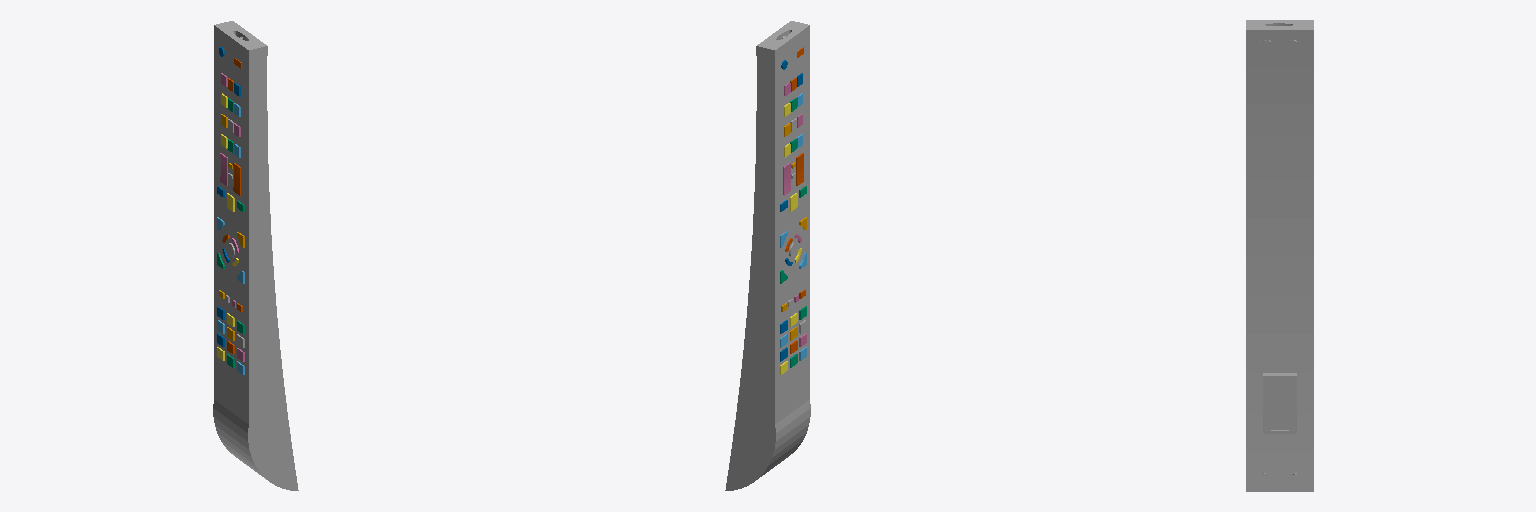
--- Render facts (derived) ---
3 views of the same robot in one strip: view 1: azimuth 30°, elevation 25°; view 2: azimuth 150°, elevation 25°; view 3: azimuth 270°, elevation 25° (orthographic).
Robot: partnet_2053bdd83749adcc1e5c09d9fe5c0c76 — 48 links, 47 joints (46 prismatic, 1 fixed); root link base; default pose: all joints at 0.
Visible links, largest first — view 1: link_46; view 2: link_46; view 3: link_46.
Boxes of the visible links, bbox=[...] form: link_46: bbox=[213, 21, 298, 490]; link_46: bbox=[725, 21, 810, 490]; link_46: bbox=[1246, 20, 1313, 491].
Bounding box of the posed robot: 0.2298 × 0.2682 × 1.92 m (x, y, z).
85 mesh visuals loaded from 85 distinct referenced files (85 OBJ).

The robot description file, URDF, robot "partnet_2053bdd83749adcc1e5c09d9fe5c0c76":
<?xml version="1.0" ?>
<robot name="partnet_2053bdd83749adcc1e5c09d9fe5c0c76">
	<link name="base"/>
	<link name="link_0">
		<visual name="button-5">
			<origin xyz="-0.0053109302520972235 -0.7905613284499184 -0.07628100000000015"/>
			<geometry>
				<mesh filename="textured_objs/original-46.obj"/>
			</geometry>
		</visual>
		<collision>
			<origin xyz="-0.0053109302520972235 -0.7905613284499184 -0.07628100000000015"/>
			<geometry>
				<mesh filename="textured_objs/original-46.obj"/>
			</geometry>
		</collision>
	</link>
	<joint name="joint_0" type="prismatic">
		<origin xyz="0.0053109302520972235 0.7905613284499184 0.07628100000000015"/>
		<axis xyz="0 0 -1"/>
		<child link="link_0"/>
		<parent link="link_46"/>
		<limit lower="0" upper="0.004"/>
	</joint>
	<link name="link_1">
		<visual name="button-6">
			<origin xyz="-0.0053109302520972235 -0.7905613284499184 -0.07628100000000015"/>
			<geometry>
				<mesh filename="textured_objs/original-51.obj"/>
			</geometry>
		</visual>
		<collision>
			<origin xyz="-0.0053109302520972235 -0.7905613284499184 -0.07628100000000015"/>
			<geometry>
				<mesh filename="textured_objs/original-51.obj"/>
			</geometry>
		</collision>
	</link>
	<joint name="joint_1" type="prismatic">
		<origin xyz="0.0053109302520972235 0.7905613284499184 0.07628100000000015"/>
		<axis xyz="0 0 -1"/>
		<child link="link_1"/>
		<parent link="link_46"/>
		<limit lower="0" upper="0.004"/>
	</joint>
	<link name="link_2">
		<visual name="button-7">
			<origin xyz="-0.0053109302520972235 -0.7905613284499184 -0.07628100000000015"/>
			<geometry>
				<mesh filename="textured_objs/original-54.obj"/>
			</geometry>
		</visual>
		<collision>
			<origin xyz="-0.0053109302520972235 -0.7905613284499184 -0.07628100000000015"/>
			<geometry>
				<mesh filename="textured_objs/original-54.obj"/>
			</geometry>
		</collision>
	</link>
	<joint name="joint_2" type="prismatic">
		<origin xyz="0.0053109302520972235 0.7905613284499184 0.07628100000000015"/>
		<axis xyz="0 0 -1"/>
		<child link="link_2"/>
		<parent link="link_46"/>
		<limit lower="0" upper="0.004"/>
	</joint>
	<link name="link_3">
		<visual name="button-8">
			<origin xyz="-0.0053109302520972235 -0.7905613284499184 -0.07628100000000015"/>
			<geometry>
				<mesh filename="textured_objs/original-62.obj"/>
			</geometry>
		</visual>
		<collision>
			<origin xyz="-0.0053109302520972235 -0.7905613284499184 -0.07628100000000015"/>
			<geometry>
				<mesh filename="textured_objs/original-62.obj"/>
			</geometry>
		</collision>
	</link>
	<joint name="joint_3" type="prismatic">
		<origin xyz="0.0053109302520972235 0.7905613284499184 0.07628100000000015"/>
		<axis xyz="0 0 -1"/>
		<child link="link_3"/>
		<parent link="link_46"/>
		<limit lower="0" upper="0.004"/>
	</joint>
	<link name="link_4">
		<visual name="button-9">
			<origin xyz="-0.0053109302520972235 -0.7905613284499184 -0.07628100000000015"/>
			<geometry>
				<mesh filename="textured_objs/original-63.obj"/>
			</geometry>
		</visual>
		<collision>
			<origin xyz="-0.0053109302520972235 -0.7905613284499184 -0.07628100000000015"/>
			<geometry>
				<mesh filename="textured_objs/original-63.obj"/>
			</geometry>
		</collision>
	</link>
	<joint name="joint_4" type="prismatic">
		<origin xyz="0.0053109302520972235 0.7905613284499184 0.07628100000000015"/>
		<axis xyz="0 0 -1"/>
		<child link="link_4"/>
		<parent link="link_46"/>
		<limit lower="0" upper="0.004"/>
	</joint>
	<link name="link_5">
		<visual name="button-10">
			<origin xyz="-0.0053109302520972235 -0.7905613284499184 -0.07628100000000015"/>
			<geometry>
				<mesh filename="textured_objs/original-50.obj"/>
			</geometry>
		</visual>
		<collision>
			<origin xyz="-0.0053109302520972235 -0.7905613284499184 -0.07628100000000015"/>
			<geometry>
				<mesh filename="textured_objs/original-50.obj"/>
			</geometry>
		</collision>
	</link>
	<joint name="joint_5" type="prismatic">
		<origin xyz="0.0053109302520972235 0.7905613284499184 0.07628100000000015"/>
		<axis xyz="0 0 -1"/>
		<child link="link_5"/>
		<parent link="link_46"/>
		<limit lower="0" upper="0.004"/>
	</joint>
	<link name="link_6">
		<visual name="button-11">
			<origin xyz="-0.0053109302520972235 -0.7905613284499184 -0.07628100000000015"/>
			<geometry>
				<mesh filename="textured_objs/original-59.obj"/>
			</geometry>
		</visual>
		<collision>
			<origin xyz="-0.0053109302520972235 -0.7905613284499184 -0.07628100000000015"/>
			<geometry>
				<mesh filename="textured_objs/original-59.obj"/>
			</geometry>
		</collision>
	</link>
	<joint name="joint_6" type="prismatic">
		<origin xyz="0.0053109302520972235 0.7905613284499184 0.07628100000000015"/>
		<axis xyz="0 0 -1"/>
		<child link="link_6"/>
		<parent link="link_46"/>
		<limit lower="0" upper="0.004"/>
	</joint>
	<link name="link_7">
		<visual name="button-12">
			<origin xyz="-0.0053109302520972235 -0.7905613284499184 -0.07628100000000015"/>
			<geometry>
				<mesh filename="textured_objs/original-72.obj"/>
			</geometry>
		</visual>
		<collision>
			<origin xyz="-0.0053109302520972235 -0.7905613284499184 -0.07628100000000015"/>
			<geometry>
				<mesh filename="textured_objs/original-72.obj"/>
			</geometry>
		</collision>
	</link>
	<joint name="joint_7" type="prismatic">
		<origin xyz="0.0053109302520972235 0.7905613284499184 0.07628100000000015"/>
		<axis xyz="0 0 -1"/>
		<child link="link_7"/>
		<parent link="link_46"/>
		<limit lower="0" upper="0.004"/>
	</joint>
	<link name="link_8">
		<visual name="button-13">
			<origin xyz="-0.0053109302520972235 -0.7905613284499184 -0.07628100000000015"/>
			<geometry>
				<mesh filename="textured_objs/original-71.obj"/>
			</geometry>
		</visual>
		<collision>
			<origin xyz="-0.0053109302520972235 -0.7905613284499184 -0.07628100000000015"/>
			<geometry>
				<mesh filename="textured_objs/original-71.obj"/>
			</geometry>
		</collision>
	</link>
	<joint name="joint_8" type="prismatic">
		<origin xyz="0.0053109302520972235 0.7905613284499184 0.07628100000000015"/>
		<axis xyz="0 0 -1"/>
		<child link="link_8"/>
		<parent link="link_46"/>
		<limit lower="0" upper="0.004"/>
	</joint>
	<link name="link_9">
		<visual name="button-14">
			<origin xyz="-0.0053109302520972235 -0.7905613284499184 -0.07628100000000015"/>
			<geometry>
				<mesh filename="textured_objs/original-61.obj"/>
			</geometry>
		</visual>
		<collision>
			<origin xyz="-0.0053109302520972235 -0.7905613284499184 -0.07628100000000015"/>
			<geometry>
				<mesh filename="textured_objs/original-61.obj"/>
			</geometry>
		</collision>
	</link>
	<joint name="joint_9" type="prismatic">
		<origin xyz="0.0053109302520972235 0.7905613284499184 0.07628100000000015"/>
		<axis xyz="0 0 -1"/>
		<child link="link_9"/>
		<parent link="link_46"/>
		<limit lower="0" upper="0.004"/>
	</joint>
	<link name="link_10">
		<visual name="button-15">
			<origin xyz="-0.0053109302520972235 -0.7905613284499184 -0.07628100000000015"/>
			<geometry>
				<mesh filename="textured_objs/original-76.obj"/>
			</geometry>
		</visual>
		<collision>
			<origin xyz="-0.0053109302520972235 -0.7905613284499184 -0.07628100000000015"/>
			<geometry>
				<mesh filename="textured_objs/original-76.obj"/>
			</geometry>
		</collision>
	</link>
	<joint name="joint_10" type="prismatic">
		<origin xyz="0.0053109302520972235 0.7905613284499184 0.07628100000000015"/>
		<axis xyz="0 0 -1"/>
		<child link="link_10"/>
		<parent link="link_46"/>
		<limit lower="0" upper="0.004"/>
	</joint>
	<link name="link_11">
		<visual name="button-16">
			<origin xyz="-0.0053109302520972235 -0.7905613284499184 -0.07628100000000015"/>
			<geometry>
				<mesh filename="textured_objs/original-73.obj"/>
			</geometry>
		</visual>
		<collision>
			<origin xyz="-0.0053109302520972235 -0.7905613284499184 -0.07628100000000015"/>
			<geometry>
				<mesh filename="textured_objs/original-73.obj"/>
			</geometry>
		</collision>
	</link>
	<joint name="joint_11" type="prismatic">
		<origin xyz="0.0053109302520972235 0.7905613284499184 0.07628100000000015"/>
		<axis xyz="0 0 -1"/>
		<child link="link_11"/>
		<parent link="link_46"/>
		<limit lower="0" upper="0.004"/>
	</joint>
	<link name="link_12">
		<visual name="button-17">
			<origin xyz="-0.0053109302520972235 -0.7905613284499184 -0.07628100000000015"/>
			<geometry>
				<mesh filename="textured_objs/original-84.obj"/>
			</geometry>
		</visual>
		<collision>
			<origin xyz="-0.0053109302520972235 -0.7905613284499184 -0.07628100000000015"/>
			<geometry>
				<mesh filename="textured_objs/original-84.obj"/>
			</geometry>
		</collision>
	</link>
	<joint name="joint_12" type="prismatic">
		<origin xyz="0.0053109302520972235 0.7905613284499184 0.07628100000000015"/>
		<axis xyz="0 0 -1"/>
		<child link="link_12"/>
		<parent link="link_46"/>
		<limit lower="0" upper="0.004"/>
	</joint>
	<link name="link_13">
		<visual name="button-18">
			<origin xyz="-0.0053109302520972235 -0.7905613284499184 -0.07628100000000015"/>
			<geometry>
				<mesh filename="textured_objs/original-87.obj"/>
			</geometry>
		</visual>
		<collision>
			<origin xyz="-0.0053109302520972235 -0.7905613284499184 -0.07628100000000015"/>
			<geometry>
				<mesh filename="textured_objs/original-87.obj"/>
			</geometry>
		</collision>
	</link>
	<joint name="joint_13" type="prismatic">
		<origin xyz="0.0053109302520972235 0.7905613284499184 0.07628100000000015"/>
		<axis xyz="0 0 -1"/>
		<child link="link_13"/>
		<parent link="link_46"/>
		<limit lower="0" upper="0.004"/>
	</joint>
	<link name="link_14">
		<visual name="button-19">
			<origin xyz="-0.0053109302520972235 -0.7905613284499184 -0.07628100000000015"/>
			<geometry>
				<mesh filename="textured_objs/original-40.obj"/>
			</geometry>
		</visual>
		<collision>
			<origin xyz="-0.0053109302520972235 -0.7905613284499184 -0.07628100000000015"/>
			<geometry>
				<mesh filename="textured_objs/original-40.obj"/>
			</geometry>
		</collision>
	</link>
	<joint name="joint_14" type="prismatic">
		<origin xyz="0.0053109302520972235 0.7905613284499184 0.07628100000000015"/>
		<axis xyz="0 0 -1"/>
		<child link="link_14"/>
		<parent link="link_46"/>
		<limit lower="0" upper="0.004"/>
	</joint>
	<link name="link_15">
		<visual name="button-20">
			<origin xyz="-0.0053109302520972235 -0.7905613284499184 -0.07628100000000015"/>
			<geometry>
				<mesh filename="textured_objs/original-83.obj"/>
			</geometry>
		</visual>
		<collision>
			<origin xyz="-0.0053109302520972235 -0.7905613284499184 -0.07628100000000015"/>
			<geometry>
				<mesh filename="textured_objs/original-83.obj"/>
			</geometry>
		</collision>
	</link>
	<joint name="joint_15" type="prismatic">
		<origin xyz="0.0053109302520972235 0.7905613284499184 0.07628100000000015"/>
		<axis xyz="0 0 -1"/>
		<child link="link_15"/>
		<parent link="link_46"/>
		<limit lower="0" upper="0.004"/>
	</joint>
	<link name="link_16">
		<visual name="button-21">
			<origin xyz="-0.0053109302520972235 -0.7905613284499184 -0.07628100000000015"/>
			<geometry>
				<mesh filename="textured_objs/original-53.obj"/>
			</geometry>
		</visual>
		<collision>
			<origin xyz="-0.0053109302520972235 -0.7905613284499184 -0.07628100000000015"/>
			<geometry>
				<mesh filename="textured_objs/original-53.obj"/>
			</geometry>
		</collision>
	</link>
	<joint name="joint_16" type="prismatic">
		<origin xyz="0.0053109302520972235 0.7905613284499184 0.07628100000000015"/>
		<axis xyz="0 0 -1"/>
		<child link="link_16"/>
		<parent link="link_46"/>
		<limit lower="0" upper="0.004"/>
	</joint>
	<link name="link_17">
		<visual name="button-22">
			<origin xyz="-0.0053109302520972235 -0.7905613284499184 -0.07628100000000015"/>
			<geometry>
				<mesh filename="textured_objs/original-64.obj"/>
			</geometry>
		</visual>
		<collision>
			<origin xyz="-0.0053109302520972235 -0.7905613284499184 -0.07628100000000015"/>
			<geometry>
				<mesh filename="textured_objs/original-64.obj"/>
			</geometry>
		</collision>
	</link>
	<joint name="joint_17" type="prismatic">
		<origin xyz="0.0053109302520972235 0.7905613284499184 0.07628100000000015"/>
		<axis xyz="0 0 -1"/>
		<child link="link_17"/>
		<parent link="link_46"/>
		<limit lower="0" upper="0.004"/>
	</joint>
	<link name="link_18">
		<visual name="button-23">
			<origin xyz="-0.0053109302520972235 -0.7905613284499184 -0.07628100000000015"/>
			<geometry>
				<mesh filename="textured_objs/original-70.obj"/>
			</geometry>
		</visual>
		<collision>
			<origin xyz="-0.0053109302520972235 -0.7905613284499184 -0.07628100000000015"/>
			<geometry>
				<mesh filename="textured_objs/original-70.obj"/>
			</geometry>
		</collision>
	</link>
	<joint name="joint_18" type="prismatic">
		<origin xyz="0.0053109302520972235 0.7905613284499184 0.07628100000000015"/>
		<axis xyz="0 0 -1"/>
		<child link="link_18"/>
		<parent link="link_46"/>
		<limit lower="0" upper="0.004"/>
	</joint>
	<link name="link_19">
		<visual name="button-24">
			<origin xyz="-0.0053109302520972235 -0.7905613284499184 -0.07628100000000015"/>
			<geometry>
				<mesh filename="textured_objs/original-77.obj"/>
			</geometry>
		</visual>
		<collision>
			<origin xyz="-0.0053109302520972235 -0.7905613284499184 -0.07628100000000015"/>
			<geometry>
				<mesh filename="textured_objs/original-77.obj"/>
			</geometry>
		</collision>
	</link>
	<joint name="joint_19" type="prismatic">
		<origin xyz="0.0053109302520972235 0.7905613284499184 0.07628100000000015"/>
		<axis xyz="0 0 -1"/>
		<child link="link_19"/>
		<parent link="link_46"/>
		<limit lower="0" upper="0.004"/>
	</joint>
	<link name="link_20">
		<visual name="button-25">
			<origin xyz="-0.0053109302520972235 -0.7905613284499184 -0.07628100000000015"/>
			<geometry>
				<mesh filename="textured_objs/original-68.obj"/>
			</geometry>
		</visual>
		<collision>
			<origin xyz="-0.0053109302520972235 -0.7905613284499184 -0.07628100000000015"/>
			<geometry>
				<mesh filename="textured_objs/original-68.obj"/>
			</geometry>
		</collision>
	</link>
	<joint name="joint_20" type="prismatic">
		<origin xyz="0.0053109302520972235 0.7905613284499184 0.07628100000000015"/>
		<axis xyz="0 0 -1"/>
		<child link="link_20"/>
		<parent link="link_46"/>
		<limit lower="0" upper="0.004"/>
	</joint>
	<link name="link_21">
		<visual name="button-26">
			<origin xyz="-0.0053109302520972235 -0.7905613284499184 -0.07628100000000015"/>
			<geometry>
				<mesh filename="textured_objs/original-58.obj"/>
			</geometry>
		</visual>
		<collision>
			<origin xyz="-0.0053109302520972235 -0.7905613284499184 -0.07628100000000015"/>
			<geometry>
				<mesh filename="textured_objs/original-58.obj"/>
			</geometry>
		</collision>
	</link>
	<joint name="joint_21" type="prismatic">
		<origin xyz="0.0053109302520972235 0.7905613284499184 0.07628100000000015"/>
		<axis xyz="0 0 -1"/>
		<child link="link_21"/>
		<parent link="link_46"/>
		<limit lower="0" upper="0.004"/>
	</joint>
	<link name="link_22">
		<visual name="button-27">
			<origin xyz="-0.0053109302520972235 -0.7905613284499184 -0.07628100000000015"/>
			<geometry>
				<mesh filename="textured_objs/original-75.obj"/>
			</geometry>
		</visual>
		<collision>
			<origin xyz="-0.0053109302520972235 -0.7905613284499184 -0.07628100000000015"/>
			<geometry>
				<mesh filename="textured_objs/original-75.obj"/>
			</geometry>
		</collision>
	</link>
	<joint name="joint_22" type="prismatic">
		<origin xyz="0.0053109302520972235 0.7905613284499184 0.07628100000000015"/>
		<axis xyz="0 0 -1"/>
		<child link="link_22"/>
		<parent link="link_46"/>
		<limit lower="0" upper="0.004"/>
	</joint>
	<link name="link_23">
		<visual name="button-28">
			<origin xyz="-0.0053109302520972235 -0.7905613284499184 -0.07628100000000015"/>
			<geometry>
				<mesh filename="textured_objs/original-47.obj"/>
			</geometry>
		</visual>
		<collision>
			<origin xyz="-0.0053109302520972235 -0.7905613284499184 -0.07628100000000015"/>
			<geometry>
				<mesh filename="textured_objs/original-47.obj"/>
			</geometry>
		</collision>
	</link>
	<joint name="joint_23" type="prismatic">
		<origin xyz="0.0053109302520972235 0.7905613284499184 0.07628100000000015"/>
		<axis xyz="0 0 -1"/>
		<child link="link_23"/>
		<parent link="link_46"/>
		<limit lower="0" upper="0.004"/>
	</joint>
	<link name="link_24">
		<visual name="button-29">
			<origin xyz="-0.0053109302520972235 -0.7905613284499184 -0.07628100000000015"/>
			<geometry>
				<mesh filename="textured_objs/original-52.obj"/>
			</geometry>
		</visual>
		<collision>
			<origin xyz="-0.0053109302520972235 -0.7905613284499184 -0.07628100000000015"/>
			<geometry>
				<mesh filename="textured_objs/original-52.obj"/>
			</geometry>
		</collision>
	</link>
	<joint name="joint_24" type="prismatic">
		<origin xyz="0.0053109302520972235 0.7905613284499184 0.07628100000000015"/>
		<axis xyz="0 0 -1"/>
		<child link="link_24"/>
		<parent link="link_46"/>
		<limit lower="0" upper="0.004"/>
	</joint>
	<link name="link_25">
		<visual name="button-30">
			<origin xyz="-0.0053109302520972235 -0.7905613284499184 -0.07628100000000015"/>
			<geometry>
				<mesh filename="textured_objs/original-44.obj"/>
			</geometry>
		</visual>
		<collision>
			<origin xyz="-0.0053109302520972235 -0.7905613284499184 -0.07628100000000015"/>
			<geometry>
				<mesh filename="textured_objs/original-44.obj"/>
			</geometry>
		</collision>
	</link>
	<joint name="joint_25" type="prismatic">
		<origin xyz="0.0053109302520972235 0.7905613284499184 0.07628100000000015"/>
		<axis xyz="0 0 -1"/>
		<child link="link_25"/>
		<parent link="link_46"/>
		<limit lower="0" upper="0.004"/>
	</joint>
	<link name="link_26">
		<visual name="button-31">
			<origin xyz="-0.0053109302520972235 -0.7905613284499184 -0.07628100000000015"/>
			<geometry>
				<mesh filename="textured_objs/original-13.obj"/>
			</geometry>
		</visual>
		<collision>
			<origin xyz="-0.0053109302520972235 -0.7905613284499184 -0.07628100000000015"/>
			<geometry>
				<mesh filename="textured_objs/original-13.obj"/>
			</geometry>
		</collision>
	</link>
	<joint name="joint_26" type="prismatic">
		<origin xyz="0.0053109302520972235 0.7905613284499184 0.07628100000000015"/>
		<axis xyz="0 0 -1"/>
		<child link="link_26"/>
		<parent link="link_46"/>
		<limit lower="0" upper="0.004"/>
	</joint>
	<link name="link_27">
		<visual name="button-32">
			<origin xyz="-0.0053109302520972235 -0.7905613284499184 -0.07628100000000015"/>
			<geometry>
				<mesh filename="textured_objs/original-48.obj"/>
			</geometry>
		</visual>
		<collision>
			<origin xyz="-0.0053109302520972235 -0.7905613284499184 -0.07628100000000015"/>
			<geometry>
				<mesh filename="textured_objs/original-48.obj"/>
			</geometry>
		</collision>
	</link>
	<joint name="joint_27" type="prismatic">
		<origin xyz="0.0053109302520972235 0.7905613284499184 0.07628100000000015"/>
		<axis xyz="0 0 -1"/>
		<child link="link_27"/>
		<parent link="link_46"/>
		<limit lower="0" upper="0.004"/>
	</joint>
	<link name="link_28">
		<visual name="button-33">
			<origin xyz="-0.0053109302520972235 -0.7905613284499184 -0.07628100000000015"/>
			<geometry>
				<mesh filename="textured_objs/original-85.obj"/>
			</geometry>
		</visual>
		<collision>
			<origin xyz="-0.0053109302520972235 -0.7905613284499184 -0.07628100000000015"/>
			<geometry>
				<mesh filename="textured_objs/original-85.obj"/>
			</geometry>
		</collision>
	</link>
	<joint name="joint_28" type="prismatic">
		<origin xyz="0.0053109302520972235 0.7905613284499184 0.07628100000000015"/>
		<axis xyz="0 0 -1"/>
		<child link="link_28"/>
		<parent link="link_46"/>
		<limit lower="0" upper="0.004"/>
	</joint>
	<link name="link_29">
		<visual name="button-34">
			<origin xyz="-0.0053109302520972235 -0.7905613284499184 -0.07628100000000015"/>
			<geometry>
				<mesh filename="textured_objs/original-86.obj"/>
			</geometry>
		</visual>
		<collision>
			<origin xyz="-0.0053109302520972235 -0.7905613284499184 -0.07628100000000015"/>
			<geometry>
				<mesh filename="textured_objs/original-86.obj"/>
			</geometry>
		</collision>
	</link>
	<joint name="joint_29" type="prismatic">
		<origin xyz="0.0053109302520972235 0.7905613284499184 0.07628100000000015"/>
		<axis xyz="0 0 -1"/>
		<child link="link_29"/>
		<parent link="link_46"/>
		<limit lower="0" upper="0.004"/>
	</joint>
	<link name="link_30">
		<visual name="button-35">
			<origin xyz="-0.0053109302520972235 -0.7905613284499184 -0.07628100000000015"/>
			<geometry>
				<mesh filename="textured_objs/original-79.obj"/>
			</geometry>
		</visual>
		<collision>
			<origin xyz="-0.0053109302520972235 -0.7905613284499184 -0.07628100000000015"/>
			<geometry>
				<mesh filename="textured_objs/original-79.obj"/>
			</geometry>
		</collision>
	</link>
	<joint name="joint_30" type="prismatic">
		<origin xyz="0.0053109302520972235 0.7905613284499184 0.07628100000000015"/>
		<axis xyz="0 0 -1"/>
		<child link="link_30"/>
		<parent link="link_46"/>
		<limit lower="0" upper="0.004"/>
	</joint>
	<link name="link_31">
		<visual name="button-36">
			<origin xyz="-0.0053109302520972235 -0.7905613284499184 -0.07628100000000015"/>
			<geometry>
				<mesh filename="textured_objs/original-80.obj"/>
			</geometry>
		</visual>
		<collision>
			<origin xyz="-0.0053109302520972235 -0.7905613284499184 -0.07628100000000015"/>
			<geometry>
				<mesh filename="textured_objs/original-80.obj"/>
			</geometry>
		</collision>
	</link>
	<joint name="joint_31" type="prismatic">
		<origin xyz="0.0053109302520972235 0.7905613284499184 0.07628100000000015"/>
		<axis xyz="0 0 -1"/>
		<child link="link_31"/>
		<parent link="link_46"/>
		<limit lower="0" upper="0.004"/>
	</joint>
	<link name="link_32">
		<visual name="button-37">
			<origin xyz="-0.0053109302520972235 -0.7905613284499184 -0.07628100000000015"/>
			<geometry>
				<mesh filename="textured_objs/original-67.obj"/>
			</geometry>
		</visual>
		<collision>
			<origin xyz="-0.0053109302520972235 -0.7905613284499184 -0.07628100000000015"/>
			<geometry>
				<mesh filename="textured_objs/original-67.obj"/>
			</geometry>
		</collision>
	</link>
	<joint name="joint_32" type="prismatic">
		<origin xyz="0.0053109302520972235 0.7905613284499184 0.07628100000000015"/>
		<axis xyz="0 0 -1"/>
		<child link="link_32"/>
		<parent link="link_46"/>
		<limit lower="0" upper="0.004"/>
	</joint>
	<link name="link_33">
		<visual name="button-38">
			<origin xyz="-0.0053109302520972235 -0.7905613284499184 -0.07628100000000015"/>
			<geometry>
				<mesh filename="textured_objs/original-78.obj"/>
			</geometry>
		</visual>
		<collision>
			<origin xyz="-0.0053109302520972235 -0.7905613284499184 -0.07628100000000015"/>
			<geometry>
				<mesh filename="textured_objs/original-78.obj"/>
			</geometry>
		</collision>
	</link>
	<joint name="joint_33" type="prismatic">
		<origin xyz="0.0053109302520972235 0.7905613284499184 0.07628100000000015"/>
		<axis xyz="0 0 -1"/>
		<child link="link_33"/>
		<parent link="link_46"/>
		<limit lower="0" upper="0.004"/>
	</joint>
	<link name="link_34">
		<visual name="button-39">
			<origin xyz="-0.0053109302520972235 -0.7905613284499184 -0.07628100000000015"/>
			<geometry>
				<mesh filename="textured_objs/original-74.obj"/>
			</geometry>
		</visual>
		<collision>
			<origin xyz="-0.0053109302520972235 -0.7905613284499184 -0.07628100000000015"/>
			<geometry>
				<mesh filename="textured_objs/original-74.obj"/>
			</geometry>
		</collision>
	</link>
	<joint name="joint_34" type="prismatic">
		<origin xyz="0.0053109302520972235 0.7905613284499184 0.07628100000000015"/>
		<axis xyz="0 0 -1"/>
		<child link="link_34"/>
		<parent link="link_46"/>
		<limit lower="0" upper="0.004"/>
	</joint>
	<link name="link_35">
		<visual name="button-40">
			<origin xyz="-0.0053109302520972235 -0.7905613284499184 -0.07628100000000015"/>
			<geometry>
				<mesh filename="textured_objs/original-81.obj"/>
			</geometry>
		</visual>
		<collision>
			<origin xyz="-0.0053109302520972235 -0.7905613284499184 -0.07628100000000015"/>
			<geometry>
				<mesh filename="textured_objs/original-81.obj"/>
			</geometry>
		</collision>
	</link>
	<joint name="joint_35" type="prismatic">
		<origin xyz="0.0053109302520972235 0.7905613284499184 0.07628100000000015"/>
		<axis xyz="0 0 -1"/>
		<child link="link_35"/>
		<parent link="link_46"/>
		<limit lower="0" upper="0.004"/>
	</joint>
	<link name="link_36">
		<visual name="button-41">
			<origin xyz="-0.0053109302520972235 -0.7905613284499184 -0.07628100000000015"/>
			<geometry>
				<mesh filename="textured_objs/original-43.obj"/>
			</geometry>
		</visual>
		<collision>
			<origin xyz="-0.0053109302520972235 -0.7905613284499184 -0.07628100000000015"/>
			<geometry>
				<mesh filename="textured_objs/original-43.obj"/>
			</geometry>
		</collision>
	</link>
	<joint name="joint_36" type="prismatic">
		<origin xyz="0.0053109302520972235 0.7905613284499184 0.07628100000000015"/>
		<axis xyz="0 0 -1"/>
		<child link="link_36"/>
		<parent link="link_46"/>
		<limit lower="0" upper="0.004"/>
	</joint>
	<link name="link_37">
		<visual name="button-42">
			<origin xyz="-0.0053109302520972235 -0.7905613284499184 -0.07628100000000015"/>
			<geometry>
				<mesh filename="textured_objs/original-57.obj"/>
			</geometry>
		</visual>
		<collision>
			<origin xyz="-0.0053109302520972235 -0.7905613284499184 -0.07628100000000015"/>
			<geometry>
				<mesh filename="textured_objs/original-57.obj"/>
			</geometry>
		</collision>
	</link>
	<joint name="joint_37" type="prismatic">
		<origin xyz="0.0053109302520972235 0.7905613284499184 0.07628100000000015"/>
		<axis xyz="0 0 -1"/>
		<child link="link_37"/>
		<parent link="link_46"/>
		<limit lower="0" upper="0.004"/>
	</joint>
	<link name="link_38">
		<visual name="button-43">
			<origin xyz="-0.0053109302520972235 -0.7905613284499184 -0.07628100000000015"/>
			<geometry>
				<mesh filename="textured_objs/original-69.obj"/>
			</geometry>
		</visual>
		<collision>
			<origin xyz="-0.0053109302520972235 -0.7905613284499184 -0.07628100000000015"/>
			<geometry>
				<mesh filename="textured_objs/original-69.obj"/>
			</geometry>
		</collision>
	</link>
	<joint name="joint_38" type="prismatic">
		<origin xyz="0.0053109302520972235 0.7905613284499184 0.07628100000000015"/>
		<axis xyz="0 0 -1"/>
		<child link="link_38"/>
		<parent link="link_46"/>
		<limit lower="0" upper="0.004"/>
	</joint>
	<link name="link_39">
		<visual name="button-44">
			<origin xyz="-0.0053109302520972235 -0.7905613284499184 -0.07628100000000015"/>
			<geometry>
				<mesh filename="textured_objs/original-60.obj"/>
			</geometry>
		</visual>
		<collision>
			<origin xyz="-0.0053109302520972235 -0.7905613284499184 -0.07628100000000015"/>
			<geometry>
				<mesh filename="textured_objs/original-60.obj"/>
			</geometry>
		</collision>
	</link>
	<joint name="joint_39" type="prismatic">
		<origin xyz="0.0053109302520972235 0.7905613284499184 0.07628100000000015"/>
		<axis xyz="0 0 -1"/>
		<child link="link_39"/>
		<parent link="link_46"/>
		<limit lower="0" upper="0.004"/>
	</joint>
	<link name="link_40">
		<visual name="button-45">
			<origin xyz="-0.0053109302520972235 -0.7905613284499184 -0.07628100000000015"/>
			<geometry>
				<mesh filename="textured_objs/original-49.obj"/>
			</geometry>
		</visual>
		<collision>
			<origin xyz="-0.0053109302520972235 -0.7905613284499184 -0.07628100000000015"/>
			<geometry>
				<mesh filename="textured_objs/original-49.obj"/>
			</geometry>
		</collision>
	</link>
	<joint name="joint_40" type="prismatic">
		<origin xyz="0.0053109302520972235 0.7905613284499184 0.07628100000000015"/>
		<axis xyz="0 0 -1"/>
		<child link="link_40"/>
		<parent link="link_46"/>
		<limit lower="0" upper="0.004"/>
	</joint>
	<link name="link_41">
		<visual name="button-46">
			<origin xyz="-0.0053109302520972235 -0.7905613284499184 -0.07628100000000015"/>
			<geometry>
				<mesh filename="textured_objs/original-66.obj"/>
			</geometry>
		</visual>
		<collision>
			<origin xyz="-0.0053109302520972235 -0.7905613284499184 -0.07628100000000015"/>
			<geometry>
				<mesh filename="textured_objs/original-66.obj"/>
			</geometry>
		</collision>
	</link>
	<joint name="joint_41" type="prismatic">
		<origin xyz="0.0053109302520972235 0.7905613284499184 0.07628100000000015"/>
		<axis xyz="0 0 -1"/>
		<child link="link_41"/>
		<parent link="link_46"/>
		<limit lower="0" upper="0.004"/>
	</joint>
	<link name="link_42">
		<visual name="button-47">
			<origin xyz="-0.0053109302520972235 -0.7905613284499184 -0.07628100000000015"/>
			<geometry>
				<mesh filename="textured_objs/original-56.obj"/>
			</geometry>
		</visual>
		<collision>
			<origin xyz="-0.0053109302520972235 -0.7905613284499184 -0.07628100000000015"/>
			<geometry>
				<mesh filename="textured_objs/original-56.obj"/>
			</geometry>
		</collision>
	</link>
	<joint name="joint_42" type="prismatic">
		<origin xyz="0.0053109302520972235 0.7905613284499184 0.07628100000000015"/>
		<axis xyz="0 0 -1"/>
		<child link="link_42"/>
		<parent link="link_46"/>
		<limit lower="0" upper="0.004"/>
	</joint>
	<link name="link_43">
		<visual name="button-48">
			<origin xyz="-0.0053109302520972235 -0.7905613284499184 -0.07628100000000015"/>
			<geometry>
				<mesh filename="textured_objs/original-45.obj"/>
			</geometry>
		</visual>
		<visual name="button-48">
			<origin xyz="-0.0053109302520972235 -0.7905613284499184 -0.07628100000000015"/>
			<geometry>
				<mesh filename="textured_objs/original-24.obj"/>
			</geometry>
		</visual>
		<collision>
			<origin xyz="-0.0053109302520972235 -0.7905613284499184 -0.07628100000000015"/>
			<geometry>
				<mesh filename="textured_objs/original-45.obj"/>
			</geometry>
		</collision>
		<collision>
			<origin xyz="-0.0053109302520972235 -0.7905613284499184 -0.07628100000000015"/>
			<geometry>
				<mesh filename="textured_objs/original-24.obj"/>
			</geometry>
		</collision>
	</link>
	<joint name="joint_43" type="prismatic">
		<origin xyz="0.0053109302520972235 0.7905613284499184 0.07628100000000015"/>
		<axis xyz="0 0 -1"/>
		<child link="link_43"/>
		<parent link="link_46"/>
		<limit lower="0" upper="0.004"/>
	</joint>
	<link name="link_44">
		<visual name="button-49">
			<origin xyz="-0.0053109302520972235 -0.7905613284499184 -0.07628100000000015"/>
			<geometry>
				<mesh filename="textured_objs/original-32.obj"/>
			</geometry>
		</visual>
		<visual name="button-49">
			<origin xyz="-0.0053109302520972235 -0.7905613284499184 -0.07628100000000015"/>
			<geometry>
				<mesh filename="textured_objs/original-55.obj"/>
			</geometry>
		</visual>
		<collision>
			<origin xyz="-0.0053109302520972235 -0.7905613284499184 -0.07628100000000015"/>
			<geometry>
				<mesh filename="textured_objs/original-32.obj"/>
			</geometry>
		</collision>
		<collision>
			<origin xyz="-0.0053109302520972235 -0.7905613284499184 -0.07628100000000015"/>
			<geometry>
				<mesh filename="textured_objs/original-55.obj"/>
			</geometry>
		</collision>
	</link>
	<joint name="joint_44" type="prismatic">
		<origin xyz="0.0053109302520972235 0.7905613284499184 0.07628100000000015"/>
		<axis xyz="0 0 -1"/>
		<child link="link_44"/>
		<parent link="link_46"/>
		<limit lower="0" upper="0.004"/>
	</joint>
	<link name="link_45">
		<visual name="button-50">
			<origin xyz="-0.0053109302520972235 -0.7905613284499184 -0.07628100000000015"/>
			<geometry>
				<mesh filename="textured_objs/original-65.obj"/>
			</geometry>
		</visual>
		<visual name="button-50">
			<origin xyz="-0.0053109302520972235 -0.7905613284499184 -0.07628100000000015"/>
			<geometry>
				<mesh filename="textured_objs/original-36.obj"/>
			</geometry>
		</visual>
		<collision>
			<origin xyz="-0.0053109302520972235 -0.7905613284499184 -0.07628100000000015"/>
			<geometry>
				<mesh filename="textured_objs/original-65.obj"/>
			</geometry>
		</collision>
		<collision>
			<origin xyz="-0.0053109302520972235 -0.7905613284499184 -0.07628100000000015"/>
			<geometry>
				<mesh filename="textured_objs/original-36.obj"/>
			</geometry>
		</collision>
	</link>
	<joint name="joint_45" type="prismatic">
		<origin xyz="0.0053109302520972235 0.7905613284499184 0.07628100000000015"/>
		<axis xyz="0 0 -1"/>
		<child link="link_45"/>
		<parent link="link_46"/>
		<limit lower="0" upper="0.004"/>
	</joint>
	<link name="link_46">
		<visual name="base_body-51">
			<origin xyz="0 0 0"/>
			<geometry>
				<mesh filename="textured_objs/original-29.obj"/>
			</geometry>
		</visual>
		<visual name="base_body-51">
			<origin xyz="0 0 0"/>
			<geometry>
				<mesh filename="textured_objs/original-21.obj"/>
			</geometry>
		</visual>
		<visual name="base_body-51">
			<origin xyz="0 0 0"/>
			<geometry>
				<mesh filename="textured_objs/original-30.obj"/>
			</geometry>
		</visual>
		<visual name="base_body-51">
			<origin xyz="0 0 0"/>
			<geometry>
				<mesh filename="textured_objs/original-41.obj"/>
			</geometry>
		</visual>
		<visual name="base_body-51">
			<origin xyz="0 0 0"/>
			<geometry>
				<mesh filename="textured_objs/original-28.obj"/>
			</geometry>
		</visual>
		<visual name="base_body-51">
			<origin xyz="0 0 0"/>
			<geometry>
				<mesh filename="textured_objs/original-22.obj"/>
			</geometry>
		</visual>
		<visual name="base_body-51">
			<origin xyz="0 0 0"/>
			<geometry>
				<mesh filename="textured_objs/original-26.obj"/>
			</geometry>
		</visual>
		<visual name="base_body-51">
			<origin xyz="0 0 0"/>
			<geometry>
				<mesh filename="textured_objs/original-4.obj"/>
			</geometry>
		</visual>
		<visual name="base_body-51">
			<origin xyz="0 0 0"/>
			<geometry>
				<mesh filename="textured_objs/original-3.obj"/>
			</geometry>
		</visual>
		<visual name="base_body-51">
			<origin xyz="0 0 0"/>
			<geometry>
				<mesh filename="textured_objs/original-33.obj"/>
			</geometry>
		</visual>
		<visual name="base_body-51">
			<origin xyz="0 0 0"/>
			<geometry>
				<mesh filename="textured_objs/original-16.obj"/>
			</geometry>
		</visual>
		<visual name="base_body-51">
			<origin xyz="0 0 0"/>
			<geometry>
				<mesh filename="textured_objs/original-8.obj"/>
			</geometry>
		</visual>
		<visual name="base_body-51">
			<origin xyz="0 0 0"/>
			<geometry>
				<mesh filename="textured_objs/original-9.obj"/>
			</geometry>
		</visual>
		<visual name="base_body-51">
			<origin xyz="0 0 0"/>
			<geometry>
				<mesh filename="textured_objs/original-35.obj"/>
			</geometry>
		</visual>
		<visual name="base_body-51">
			<origin xyz="0 0 0"/>
			<geometry>
				<mesh filename="textured_objs/original-39.obj"/>
			</geometry>
		</visual>
		<visual name="base_body-51">
			<origin xyz="0 0 0"/>
			<geometry>
				<mesh filename="textured_objs/original-5.obj"/>
			</geometry>
		</visual>
		<visual name="base_body-51">
			<origin xyz="0 0 0"/>
			<geometry>
				<mesh filename="textured_objs/original-27.obj"/>
			</geometry>
		</visual>
		<visual name="base_body-51">
			<origin xyz="0 0 0"/>
			<geometry>
				<mesh filename="textured_objs/original-6.obj"/>
			</geometry>
		</visual>
		<visual name="base_body-51">
			<origin xyz="0 0 0"/>
			<geometry>
				<mesh filename="textured_objs/original-31.obj"/>
			</geometry>
		</visual>
		<visual name="base_body-51">
			<origin xyz="0 0 0"/>
			<geometry>
				<mesh filename="textured_objs/original-37.obj"/>
			</geometry>
		</visual>
		<visual name="base_body-51">
			<origin xyz="0 0 0"/>
			<geometry>
				<mesh filename="textured_objs/original-15.obj"/>
			</geometry>
		</visual>
		<visual name="base_body-51">
			<origin xyz="0 0 0"/>
			<geometry>
				<mesh filename="textured_objs/original-23.obj"/>
			</geometry>
		</visual>
		<visual name="base_body-51">
			<origin xyz="0 0 0"/>
			<geometry>
				<mesh filename="textured_objs/original-11.obj"/>
			</geometry>
		</visual>
		<visual name="base_body-51">
			<origin xyz="0 0 0"/>
			<geometry>
				<mesh filename="textured_objs/original-38.obj"/>
			</geometry>
		</visual>
		<visual name="base_body-51">
			<origin xyz="0 0 0"/>
			<geometry>
				<mesh filename="textured_objs/original-34.obj"/>
			</geometry>
		</visual>
		<visual name="base_body-51">
			<origin xyz="0 0 0"/>
			<geometry>
				<mesh filename="textured_objs/original-18.obj"/>
			</geometry>
		</visual>
		<visual name="base_body-51">
			<origin xyz="0 0 0"/>
			<geometry>
				<mesh filename="textured_objs/original-25.obj"/>
			</geometry>
		</visual>
		<visual name="base_body-51">
			<origin xyz="0 0 0"/>
			<geometry>
				<mesh filename="textured_objs/original-17.obj"/>
			</geometry>
		</visual>
		<visual name="base_body-51">
			<origin xyz="0 0 0"/>
			<geometry>
				<mesh filename="textured_objs/original-12.obj"/>
			</geometry>
		</visual>
		<visual name="base_body-51">
			<origin xyz="0 0 0"/>
			<geometry>
				<mesh filename="textured_objs/original-42.obj"/>
			</geometry>
		</visual>
		<visual name="base_body-51">
			<origin xyz="0 0 0"/>
			<geometry>
				<mesh filename="textured_objs/original-20.obj"/>
			</geometry>
		</visual>
		<visual name="base_body-51">
			<origin xyz="0 0 0"/>
			<geometry>
				<mesh filename="textured_objs/original-7.obj"/>
			</geometry>
		</visual>
		<visual name="base_body-51">
			<origin xyz="0 0 0"/>
			<geometry>
				<mesh filename="textured_objs/original-10.obj"/>
			</geometry>
		</visual>
		<visual name="base_body-51">
			<origin xyz="0 0 0"/>
			<geometry>
				<mesh filename="textured_objs/original-14.obj"/>
			</geometry>
		</visual>
		<visual name="base_body-51">
			<origin xyz="0 0 0"/>
			<geometry>
				<mesh filename="textured_objs/original-82.obj"/>
			</geometry>
		</visual>
		<visual name="base_body-51">
			<origin xyz="0 0 0"/>
			<geometry>
				<mesh filename="textured_objs/original-19.obj"/>
			</geometry>
		</visual>
		<collision>
			<origin xyz="0 0 0"/>
			<geometry>
				<mesh filename="textured_objs/original-29.obj"/>
			</geometry>
		</collision>
		<collision>
			<origin xyz="0 0 0"/>
			<geometry>
				<mesh filename="textured_objs/original-21.obj"/>
			</geometry>
		</collision>
		<collision>
			<origin xyz="0 0 0"/>
			<geometry>
				<mesh filename="textured_objs/original-30.obj"/>
			</geometry>
		</collision>
		<collision>
			<origin xyz="0 0 0"/>
			<geometry>
				<mesh filename="textured_objs/original-41.obj"/>
			</geometry>
		</collision>
		<collision>
			<origin xyz="0 0 0"/>
			<geometry>
				<mesh filename="textured_objs/original-28.obj"/>
			</geometry>
		</collision>
		<collision>
			<origin xyz="0 0 0"/>
			<geometry>
				<mesh filename="textured_objs/original-22.obj"/>
			</geometry>
		</collision>
		<collision>
			<origin xyz="0 0 0"/>
			<geometry>
				<mesh filename="textured_objs/original-26.obj"/>
			</geometry>
		</collision>
		<collision>
			<origin xyz="0 0 0"/>
			<geometry>
				<mesh filename="textured_objs/original-4.obj"/>
			</geometry>
		</collision>
		<collision>
			<origin xyz="0 0 0"/>
			<geometry>
				<mesh filename="textured_objs/original-3.obj"/>
			</geometry>
		</collision>
		<collision>
			<origin xyz="0 0 0"/>
			<geometry>
				<mesh filename="textured_objs/original-33.obj"/>
			</geometry>
		</collision>
		<collision>
			<origin xyz="0 0 0"/>
			<geometry>
				<mesh filename="textured_objs/original-16.obj"/>
			</geometry>
		</collision>
		<collision>
			<origin xyz="0 0 0"/>
			<geometry>
				<mesh filename="textured_objs/original-8.obj"/>
			</geometry>
		</collision>
		<collision>
			<origin xyz="0 0 0"/>
			<geometry>
				<mesh filename="textured_objs/original-9.obj"/>
			</geometry>
		</collision>
		<collision>
			<origin xyz="0 0 0"/>
			<geometry>
				<mesh filename="textured_objs/original-35.obj"/>
			</geometry>
		</collision>
		<collision>
			<origin xyz="0 0 0"/>
			<geometry>
				<mesh filename="textured_objs/original-39.obj"/>
			</geometry>
		</collision>
		<collision>
			<origin xyz="0 0 0"/>
			<geometry>
				<mesh filename="textured_objs/original-5.obj"/>
			</geometry>
		</collision>
		<collision>
			<origin xyz="0 0 0"/>
			<geometry>
				<mesh filename="textured_objs/original-27.obj"/>
			</geometry>
		</collision>
		<collision>
			<origin xyz="0 0 0"/>
			<geometry>
				<mesh filename="textured_objs/original-6.obj"/>
			</geometry>
		</collision>
		<collision>
			<origin xyz="0 0 0"/>
			<geometry>
				<mesh filename="textured_objs/original-31.obj"/>
			</geometry>
		</collision>
		<collision>
			<origin xyz="0 0 0"/>
			<geometry>
				<mesh filename="textured_objs/original-37.obj"/>
			</geometry>
		</collision>
		<collision>
			<origin xyz="0 0 0"/>
			<geometry>
				<mesh filename="textured_objs/original-15.obj"/>
			</geometry>
		</collision>
		<collision>
			<origin xyz="0 0 0"/>
			<geometry>
				<mesh filename="textured_objs/original-23.obj"/>
			</geometry>
		</collision>
		<collision>
			<origin xyz="0 0 0"/>
			<geometry>
				<mesh filename="textured_objs/original-11.obj"/>
			</geometry>
		</collision>
		<collision>
			<origin xyz="0 0 0"/>
			<geometry>
				<mesh filename="textured_objs/original-38.obj"/>
			</geometry>
		</collision>
		<collision>
			<origin xyz="0 0 0"/>
			<geometry>
				<mesh filename="textured_objs/original-34.obj"/>
			</geometry>
		</collision>
		<collision>
			<origin xyz="0 0 0"/>
			<geometry>
				<mesh filename="textured_objs/original-18.obj"/>
			</geometry>
		</collision>
		<collision>
			<origin xyz="0 0 0"/>
			<geometry>
				<mesh filename="textured_objs/original-25.obj"/>
			</geometry>
		</collision>
		<collision>
			<origin xyz="0 0 0"/>
			<geometry>
				<mesh filename="textured_objs/original-17.obj"/>
			</geometry>
		</collision>
		<collision>
			<origin xyz="0 0 0"/>
			<geometry>
				<mesh filename="textured_objs/original-12.obj"/>
			</geometry>
		</collision>
		<collision>
			<origin xyz="0 0 0"/>
			<geometry>
				<mesh filename="textured_objs/original-42.obj"/>
			</geometry>
		</collision>
		<collision>
			<origin xyz="0 0 0"/>
			<geometry>
				<mesh filename="textured_objs/original-20.obj"/>
			</geometry>
		</collision>
		<collision>
			<origin xyz="0 0 0"/>
			<geometry>
				<mesh filename="textured_objs/original-7.obj"/>
			</geometry>
		</collision>
		<collision>
			<origin xyz="0 0 0"/>
			<geometry>
				<mesh filename="textured_objs/original-10.obj"/>
			</geometry>
		</collision>
		<collision>
			<origin xyz="0 0 0"/>
			<geometry>
				<mesh filename="textured_objs/original-14.obj"/>
			</geometry>
		</collision>
		<collision>
			<origin xyz="0 0 0"/>
			<geometry>
				<mesh filename="textured_objs/original-82.obj"/>
			</geometry>
		</collision>
		<collision>
			<origin xyz="0 0 0"/>
			<geometry>
				<mesh filename="textured_objs/original-19.obj"/>
			</geometry>
		</collision>
	</link>
	<joint name="joint_46" type="fixed">
		<origin rpy="1.570796326794897 0 -1.570796326794897" xyz="0 0 0"/>
		<child link="link_46"/>
		<parent link="base"/>
	</joint>
</robot>
